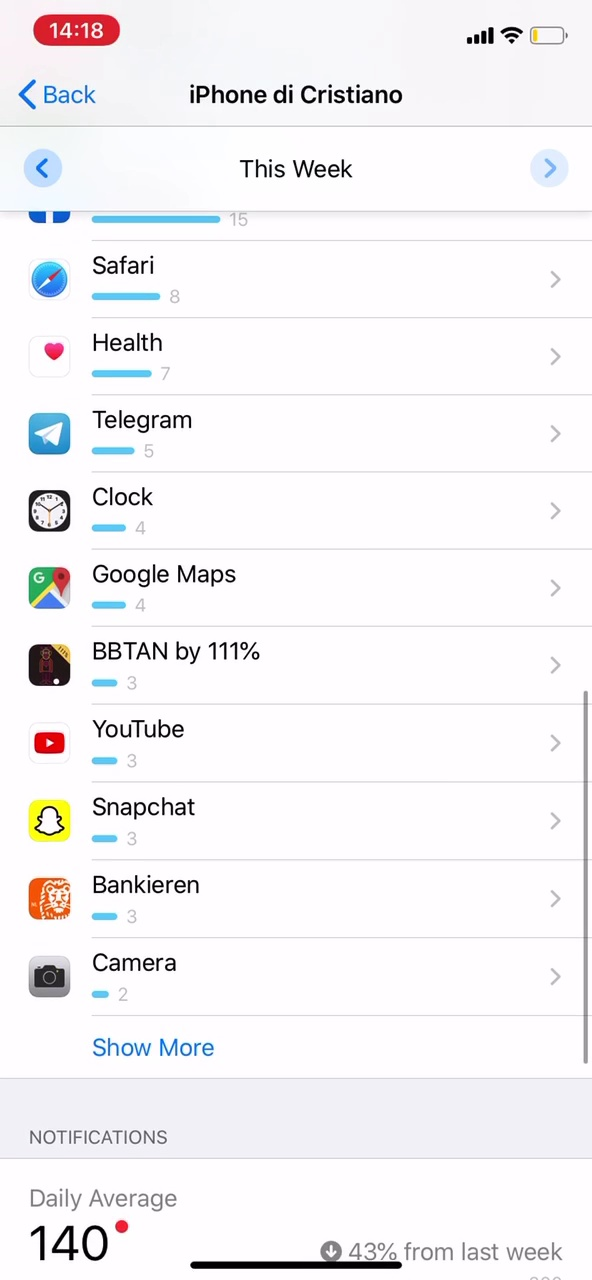pick_app: (17, 708, 331, 785), (12, 936, 298, 1014), (23, 478, 306, 555), (20, 633, 328, 703), (22, 319, 289, 397), (9, 863, 284, 935), (9, 785, 268, 861), (18, 561, 315, 627), (25, 402, 306, 471), (23, 238, 276, 314)
week: (227, 146, 370, 189)
